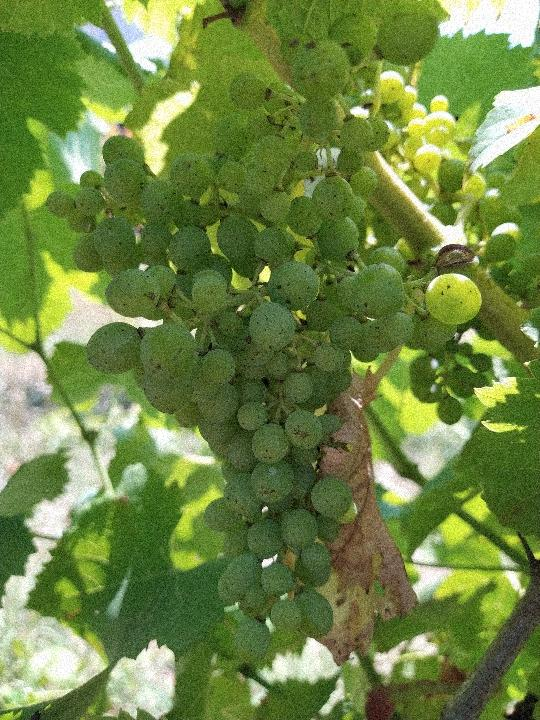grape: (42, 4, 487, 671)
